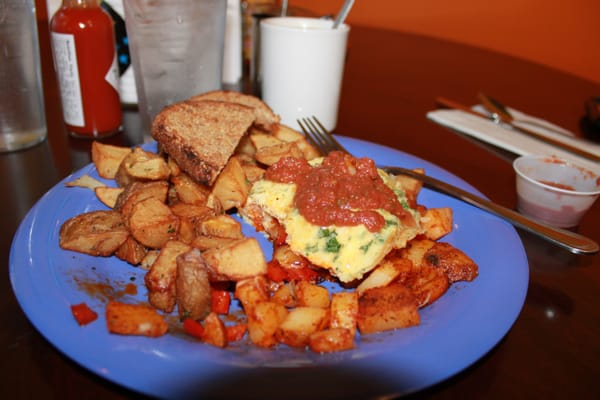burger: (296, 112, 347, 155)
pizza: (122, 0, 228, 139), (257, 15, 351, 133), (0, 2, 48, 153)
soup: (150, 89, 283, 192)
sushi: (513, 153, 600, 229)
